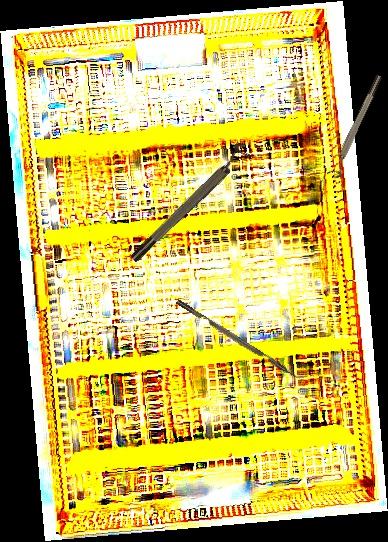Chopper: (175, 293, 309, 385)
Fixation Ring: (123, 140, 255, 265), (326, 73, 388, 181)
